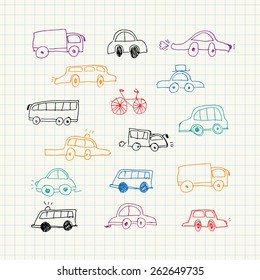car: (24, 25, 86, 59), (170, 159, 230, 193), (44, 133, 114, 161), (171, 28, 234, 59), (177, 104, 230, 136), (51, 63, 117, 88), (102, 28, 151, 60), (155, 64, 207, 94), (27, 98, 80, 126), (29, 204, 80, 233), (107, 202, 159, 229), (30, 168, 79, 196), (108, 167, 158, 194), (124, 125, 172, 153), (181, 208, 229, 232)
